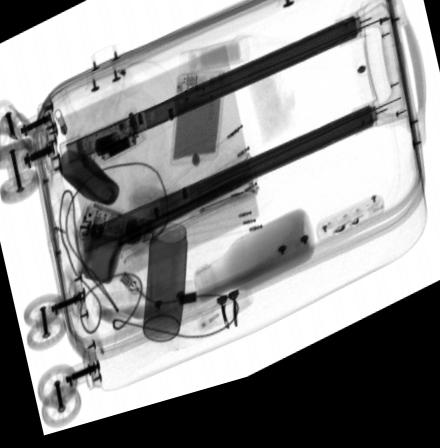Powerbank: (169, 81, 223, 175)
